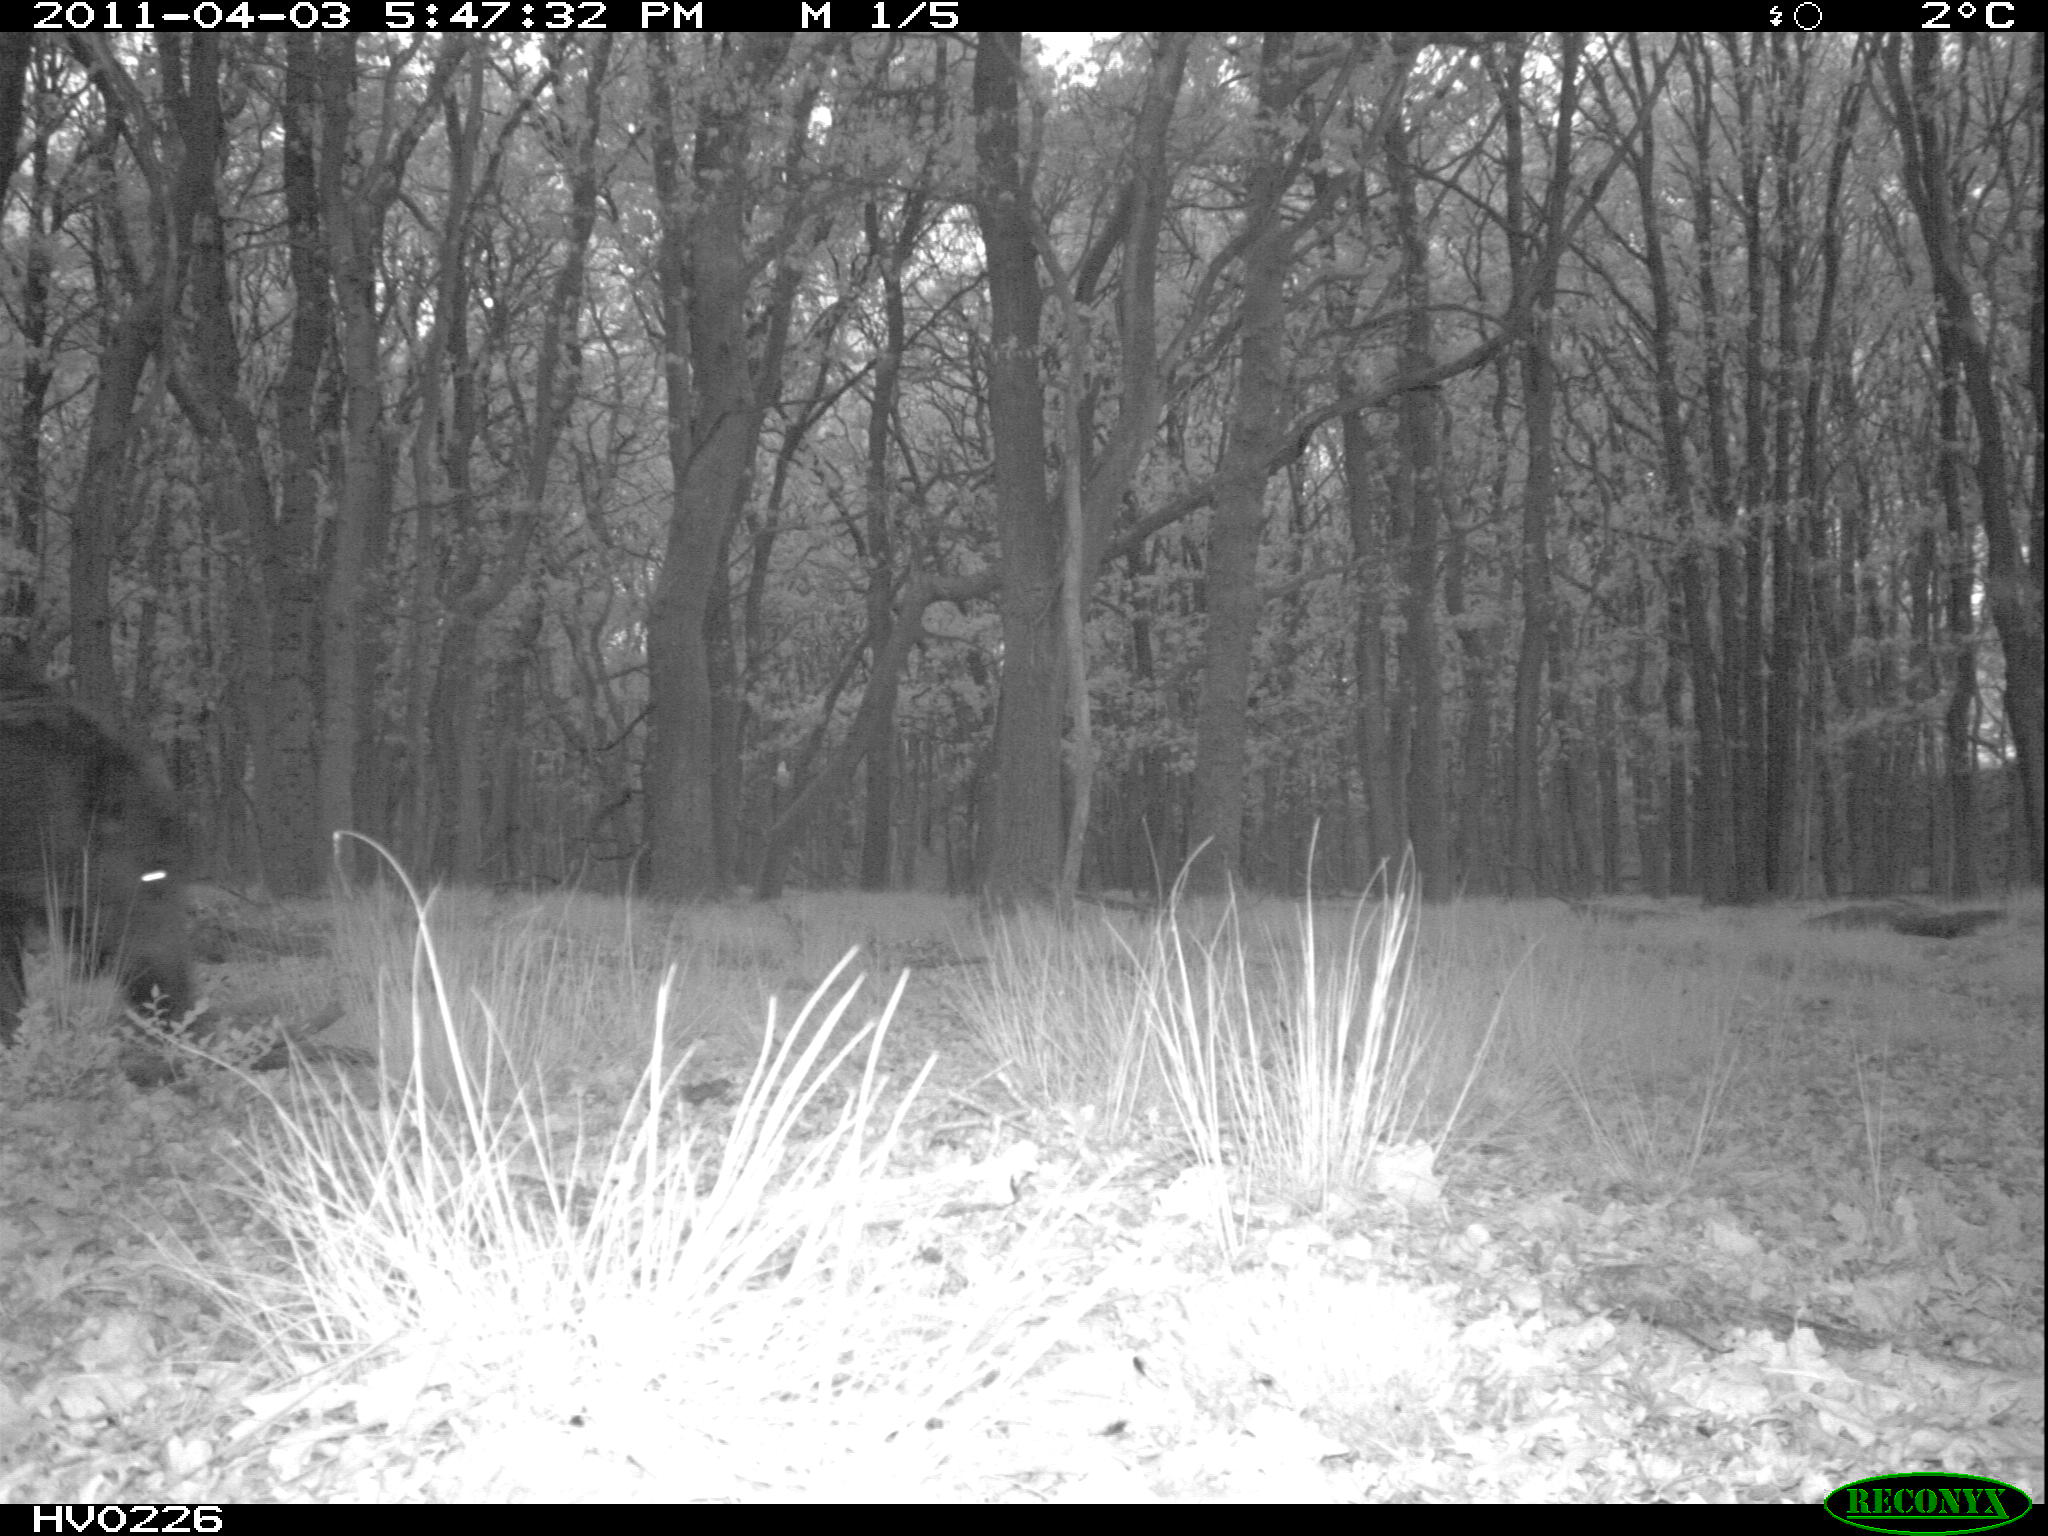Pig: (2, 678, 203, 1065)
